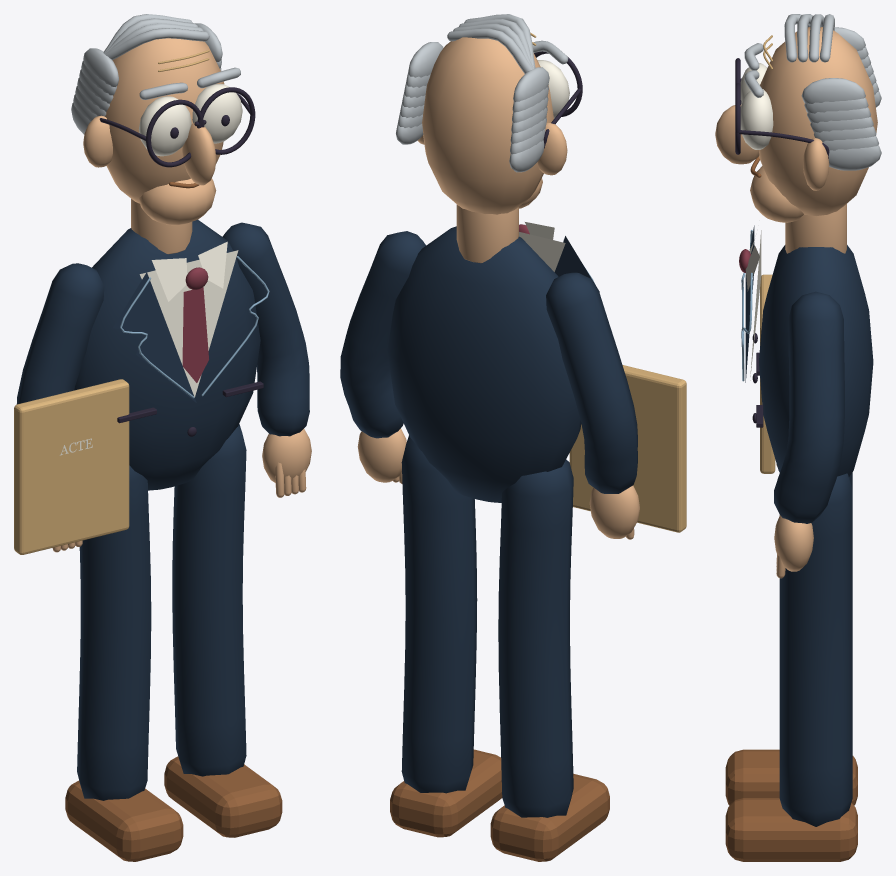
File: notary.glb
The picture shows the model from 3 angles, left to right: view 1: azimuth 30°, elevation 25°; view 2: azimuth 150°, elevation 25°; view 3: azimuth 270°, elevation 25°; orthographic projection.
Visible parts, largest first — view 1: Suit_trouser.001, Suit_torso, Suit_trouser, Legal_folder, Sleeve.001, Head, Sleeve, Formal_shoe.001, Formal_shoe, Notched_lapel, White_shirt, Chin (+13 smaller); view 2: Suit_torso, Suit_trouser, Suit_trouser.001, Head, Sleeve, Legal_folder, Sleeve.001, Formal_shoe, Formal_shoe.001, Neck, Hand, Hand.001 (+7 smaller); view 3: Suit_trouser.001, Suit_torso, Sleeve.001, Head, Formal_shoe.001, Formal_shoe, Neck, Hand.001, Chin, Eye.001, Long_nose, Layered_silver_lock.007 (+18 smaller).
Boxes of the visible parts, box(x1,y1,x2,y2) form: Suit_trouser.001: box(172, 424, 246, 776); Suit_torso: box(74, 219, 260, 490); Suit_trouser: box(77, 465, 151, 800); Legal_folder: box(14, 379, 129, 554); Sleeve.001: box(222, 222, 309, 436); Head: box(105, 38, 224, 203); Sleeve: box(16, 263, 104, 404); Formal_shoe.001: box(164, 756, 282, 837); Formal_shoe: box(65, 780, 183, 861); Notched_lapel: box(113, 272, 196, 402); White_shirt: box(139, 250, 238, 397); Chin: box(139, 178, 216, 225); Suit_torso: box(387, 226, 581, 502); Suit_trouser: box(498, 459, 573, 817); Suit_trouser.001: box(401, 435, 477, 793); Head: box(422, 37, 553, 214); Sleeve: box(546, 272, 637, 493); Legal_folder: box(569, 365, 686, 532); Sleeve.001: box(340, 231, 425, 438); Formal_shoe: box(490, 773, 609, 861); Formal_shoe.001: box(390, 749, 502, 837); Neck: box(456, 204, 518, 263); Hand: box(589, 485, 639, 538); Hand.001: box(357, 428, 406, 482); Suit_trouser.001: box(779, 473, 852, 826); Suit_torso: box(759, 245, 873, 476); Sleeve.001: box(774, 291, 844, 523); Head: box(759, 27, 877, 215); Formal_shoe.001: box(725, 798, 857, 861); Formal_shoe: box(725, 749, 857, 805); Neck: box(785, 204, 846, 253); Hand.001: box(774, 515, 813, 571); Chin: box(750, 166, 803, 222); Eye.001: box(740, 89, 773, 149); Long_nose: box(715, 104, 759, 164); Layered_silver_lock.007: box(801, 78, 865, 104).
Size of the model in its own units: 0.8224 by 2.01 by 0.378.
